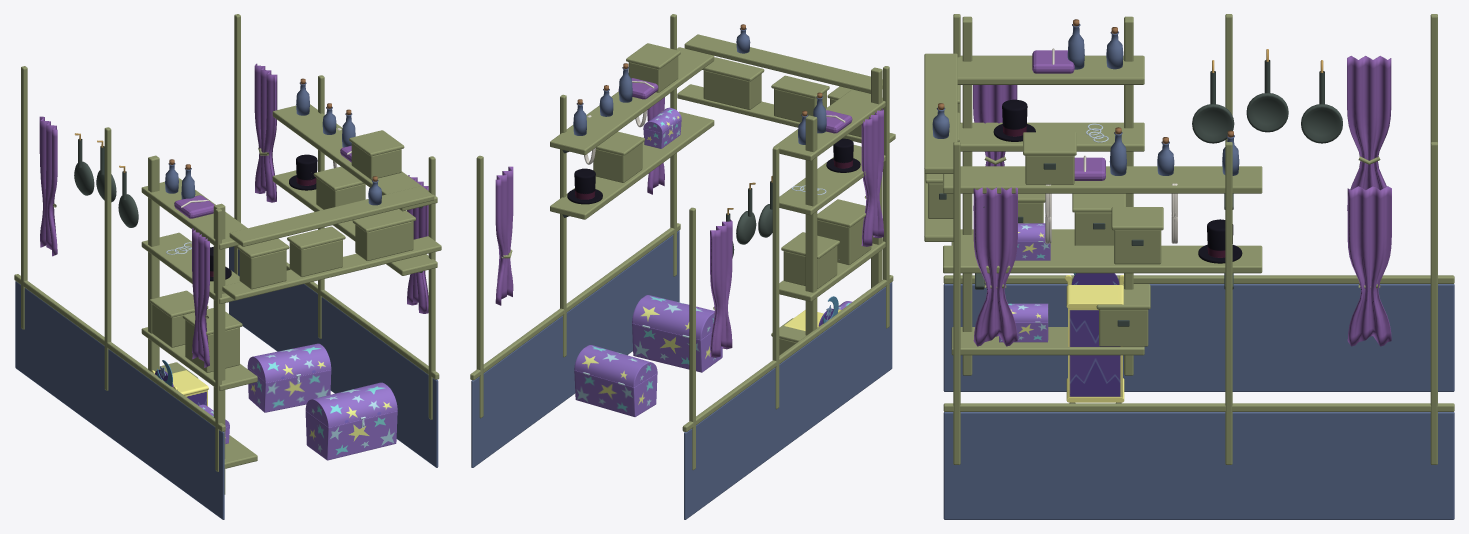
Rendered from trixie-wagon-clutter.glb.
3 renders of one model, left to right at view 1: azimuth 30°, elevation 25°; view 2: azimuth 150°, elevation 25°; view 3: azimuth 270°, elevation 25°, orthographic. The views are drawn at different scales.
Visible parts, largest first — view 1: blue lower wall lining.001; view 2: blue lower wall lining.001; view 3: blue lower wall lining.001.
Boxes of the visible parts, box(x1,y1,x2,y2) form: blue lower wall lining.001: box(14, 14, 441, 519); blue lower wall lining.001: box(470, 14, 895, 519); blue lower wall lining.001: box(924, 14, 1454, 519).
Bounding box in the file's own units: 1.82 × 2.4 × 3.02.
Materials: 22 (15 with a texture image).
